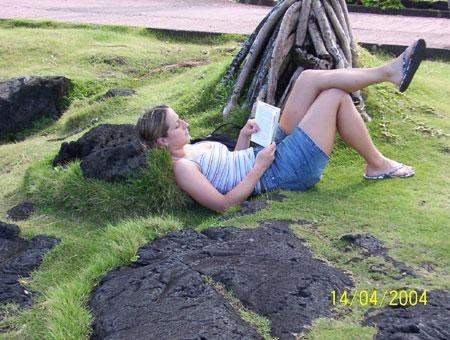person: (138, 40, 428, 213)
